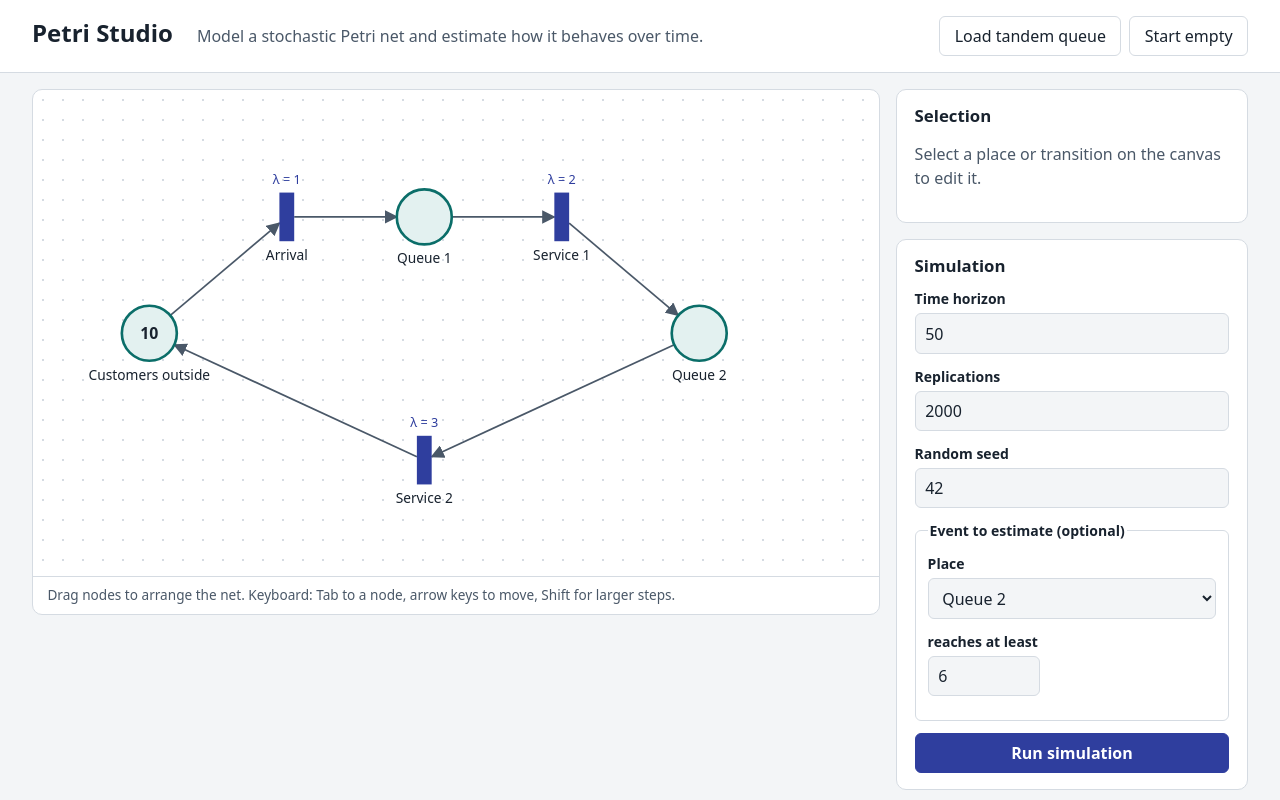
Test: App › shows backend validation messages
Click the button "Run simulation" at (1072, 753), box left=915, top=733, right=1229, bottom=773
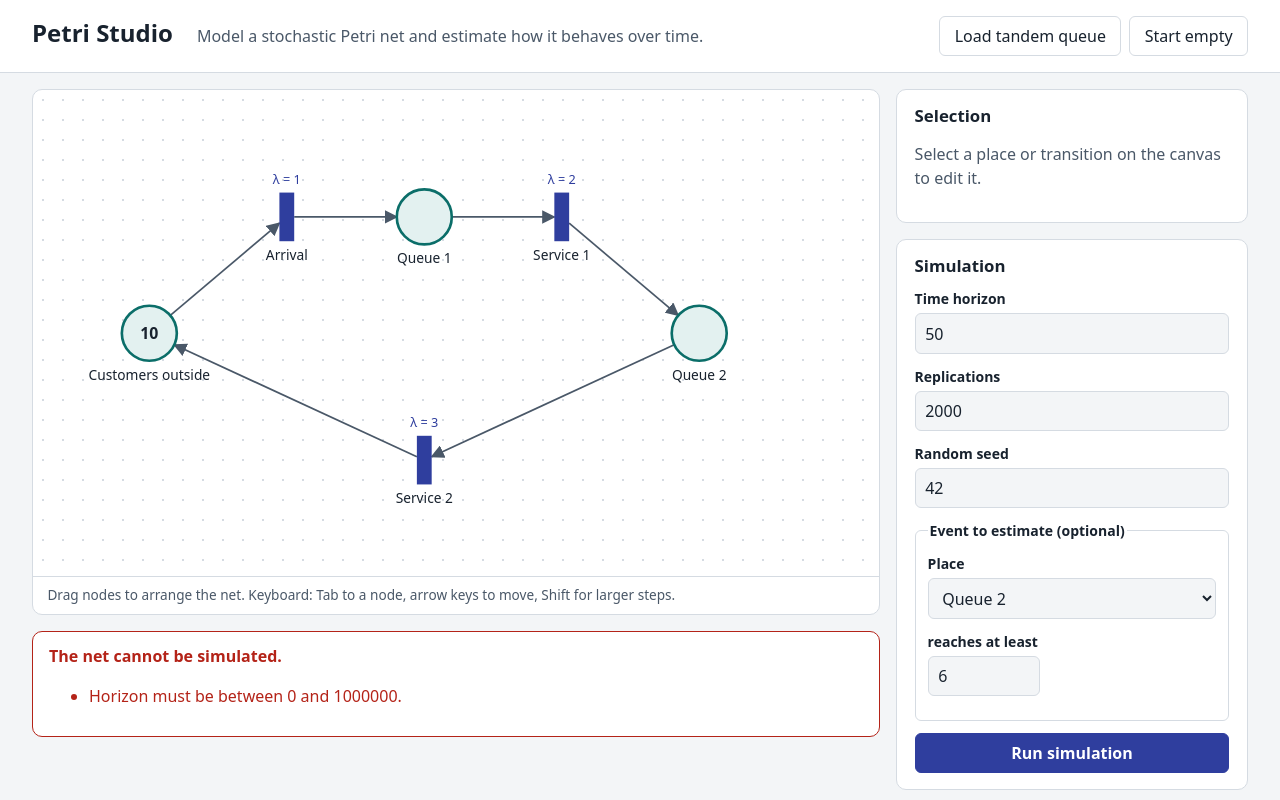
Result: the list item "Horizon must be between 0 and 1000000." is shown at left=89, top=685, right=402, bottom=707
